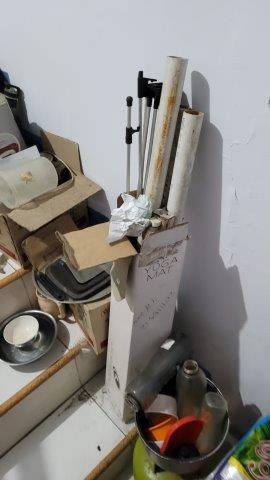kertas: (108, 194, 151, 248)
